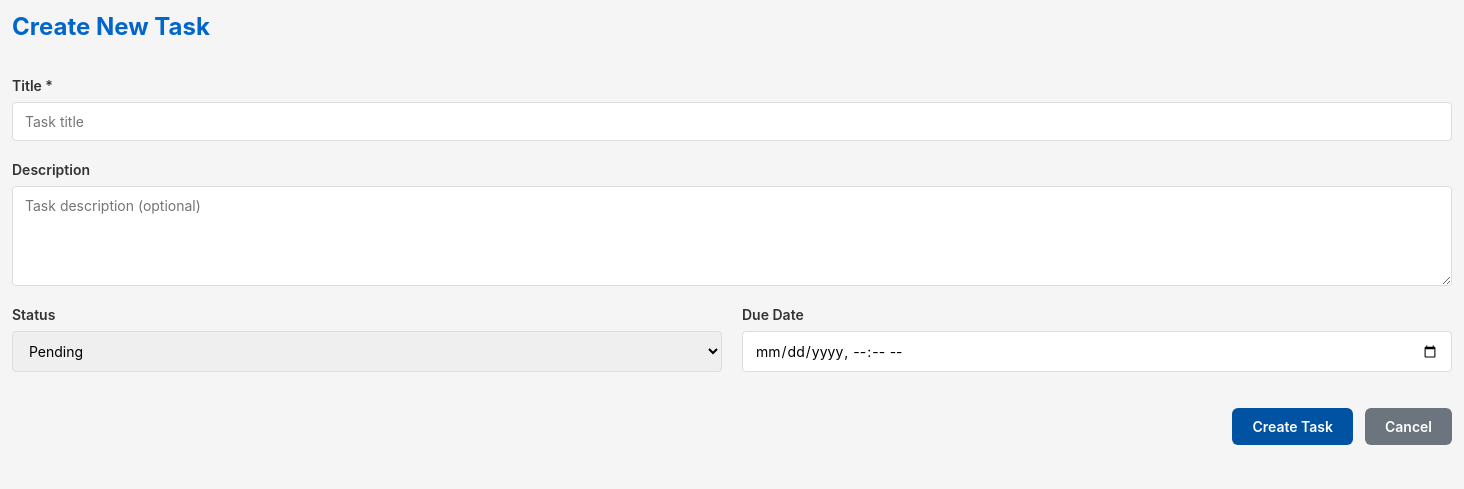
Scenario: TaskForm Component › should show validation error for empty due date
Type "Test Task" into the field with placeholder "Task title". click: (732, 122)
box: [12,102,1452,141]
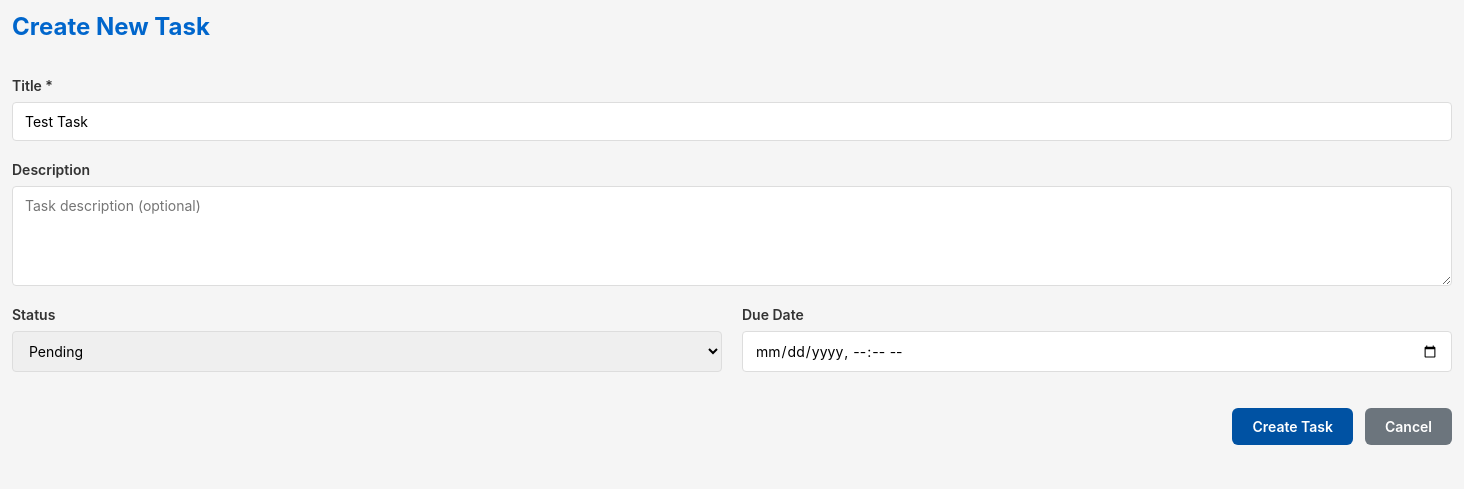
Click the button "Create Task". click: (1293, 426)
box: [1232,408,1353,445]
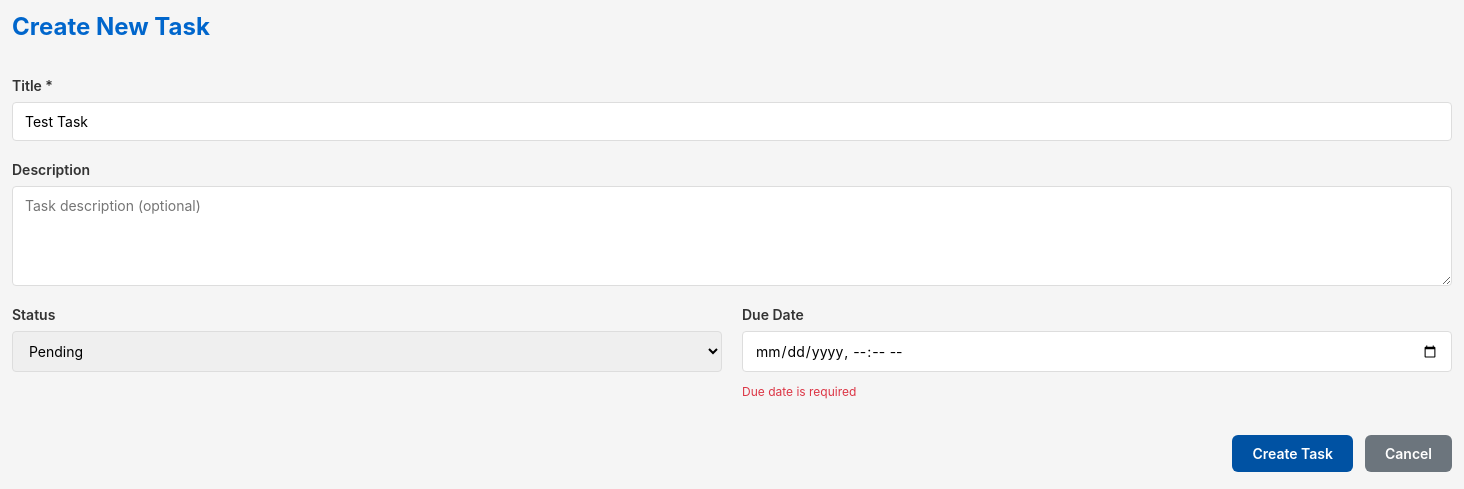
Check: the text "Due date is required" is shown, box [742,384,856,399]
